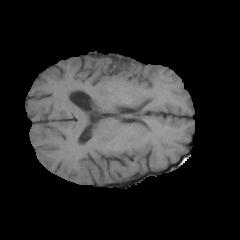glioma: (65, 61, 156, 117)
